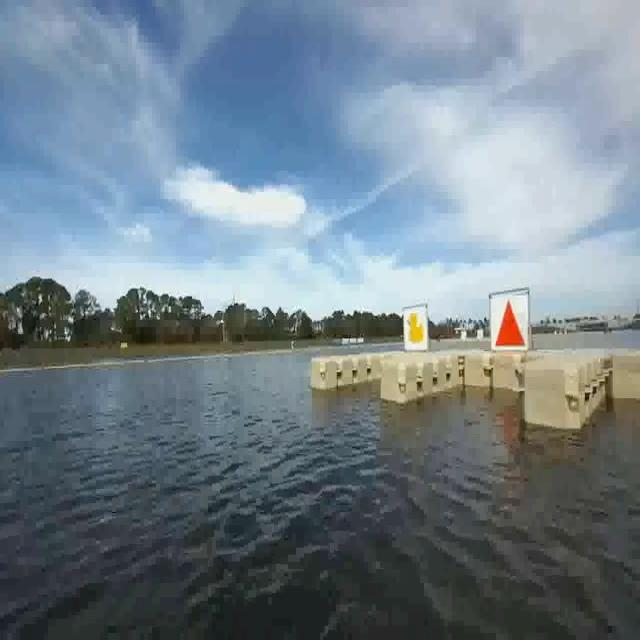red-dot: (490, 289, 528, 354)
yellow-duck: (404, 301, 429, 353)
